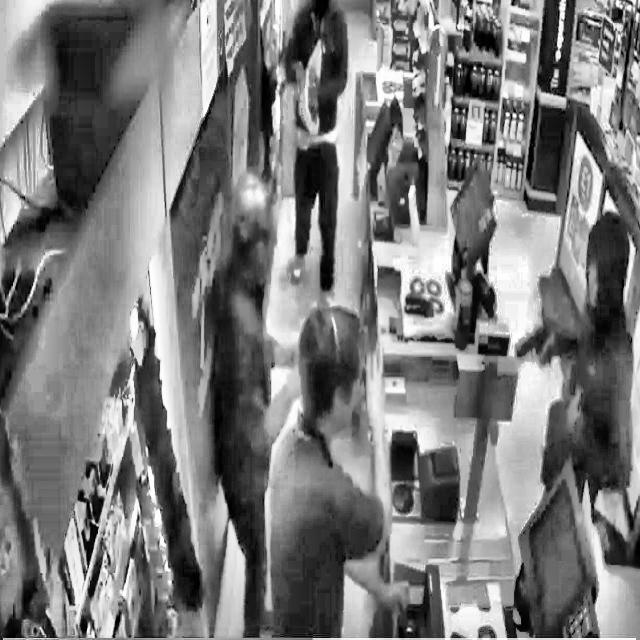robbery: (194, 144, 639, 639)
